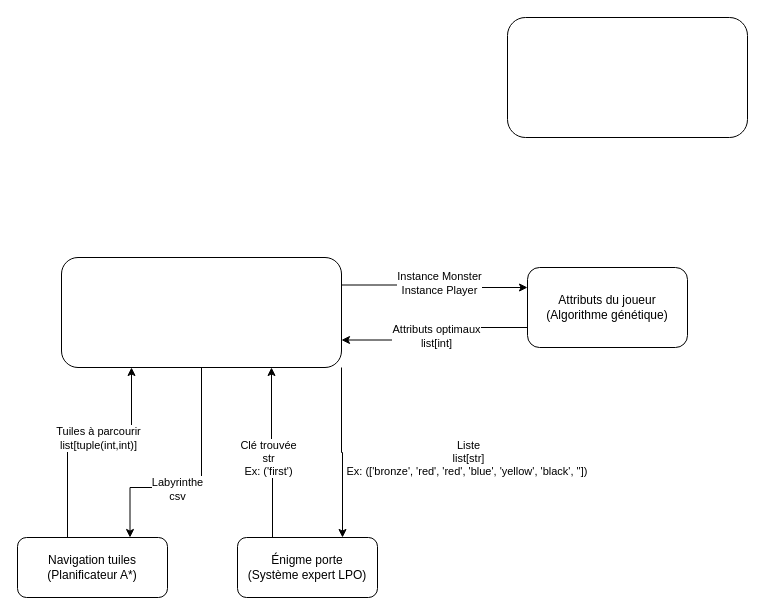
This 765x615 diagram has some shape labels left out. The shapes that lost their labels are listed below. From the top down, each one's box as (x1, y1, x2, y2) in pixels, then its label:
(506, 16, 748, 138): Jeu
(60, 256, 342, 368): Controlleur AI
